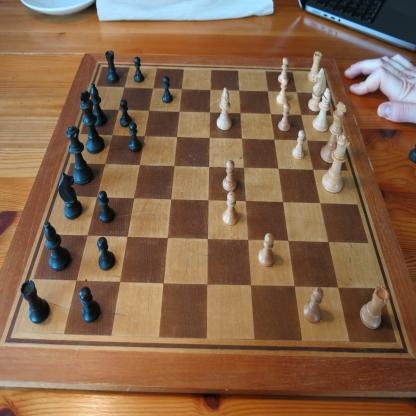black-bishop: (42, 220, 73, 272), (86, 81, 108, 130)
black-king: (77, 89, 105, 152)
black-knight: (57, 171, 84, 220)
black-pawn: (76, 284, 102, 326), (95, 233, 118, 276), (94, 189, 116, 225), (158, 74, 176, 106), (127, 121, 143, 155), (130, 53, 146, 85), (118, 97, 133, 127)
black-queen: (63, 123, 96, 189)
black-rook: (20, 280, 53, 326), (102, 47, 120, 85)
white-bishop: (312, 85, 334, 134), (215, 86, 234, 134)
white-king: (320, 98, 348, 164)
white-knight: (306, 64, 329, 115)
white-pawn: (303, 286, 325, 326), (256, 232, 278, 269), (221, 191, 242, 228), (219, 159, 240, 192), (291, 130, 309, 161), (277, 101, 293, 134), (276, 55, 292, 87), (275, 78, 291, 106)
white-queen: (322, 130, 352, 196)
white-rook: (358, 283, 392, 329), (306, 48, 324, 85)
